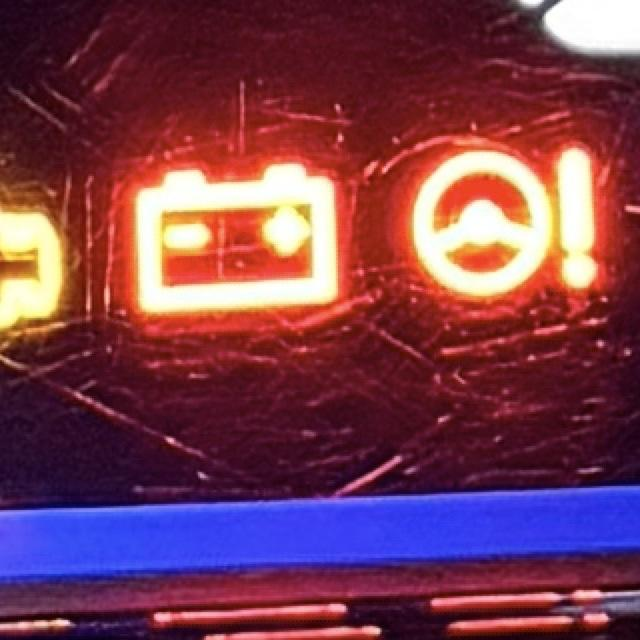Battery Issue: (132, 165, 344, 319)
Steering Wheel Locked: (410, 146, 605, 304)
